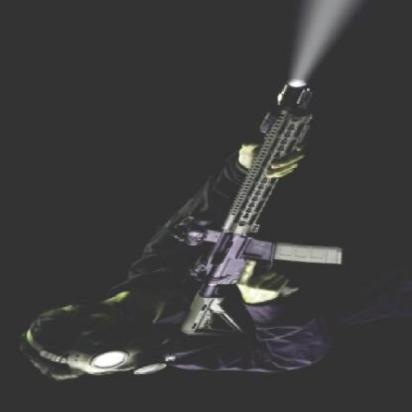Gun: (165, 64, 351, 336)
